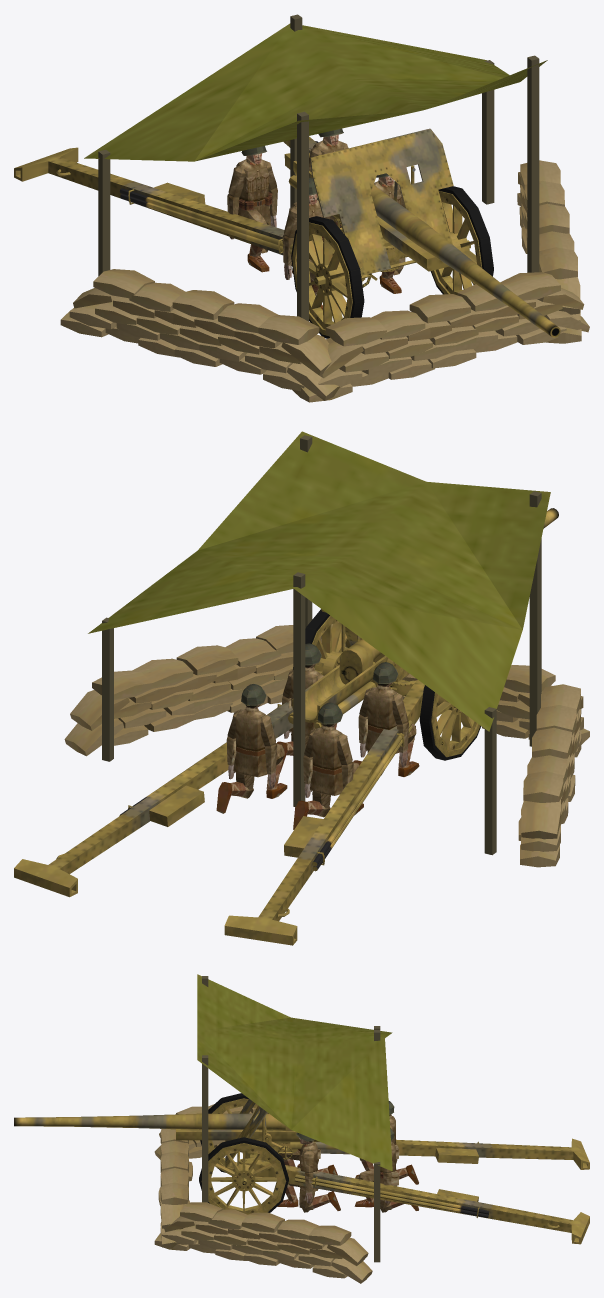
The model's file is JPNType92_10cm_Stationary.dae.
3 renders of one model, top to bottom at view 1: azimuth 30°, elevation 25°; view 2: azimuth 150°, elevation 25°; view 3: azimuth 270°, elevation 25°, orthographic. The views are drawn at different scales.
Parts seen in each view (by area): view 1: base, shield, wheels, trail1, barrel, torso4, sleeve, carriage; view 2: base, trail1, trail2, wheels, sleeve, torso2.002, torso4, torso2, barrel; view 3: base, trail2, wheels, trail1, barrel, sleeve, shield.
Boxes of the visible parts, x1,y1,x2,y2 form: base: [60, 14, 589, 402]; shield: [310, 128, 453, 275]; wheels: [291, 186, 493, 338]; trail1: [14, 147, 365, 281]; barrel: [371, 184, 560, 337]; torso4: [236, 156, 272, 222]; sleeve: [288, 154, 449, 271]; carriage: [361, 245, 415, 287]; base: [64, 431, 589, 867]; trail1: [224, 680, 424, 945]; trail2: [14, 702, 293, 897]; wheels: [293, 609, 481, 760]; sleeve: [288, 653, 397, 728]; torso2.002: [231, 706, 267, 777]; torso4: [308, 725, 343, 795]; torso2: [363, 685, 399, 753]; barrel: [339, 508, 558, 684]; base: [154, 974, 392, 1283]; trail2: [238, 1158, 589, 1244]; wheels: [199, 1093, 288, 1214]; trail1: [240, 1138, 589, 1169]; barrel: [14, 1113, 293, 1131]; sleeve: [176, 1129, 337, 1149]; shield: [225, 1099, 267, 1167].
Bounding box in the file's own units: 51.33 × 73.63 × 26.09.
